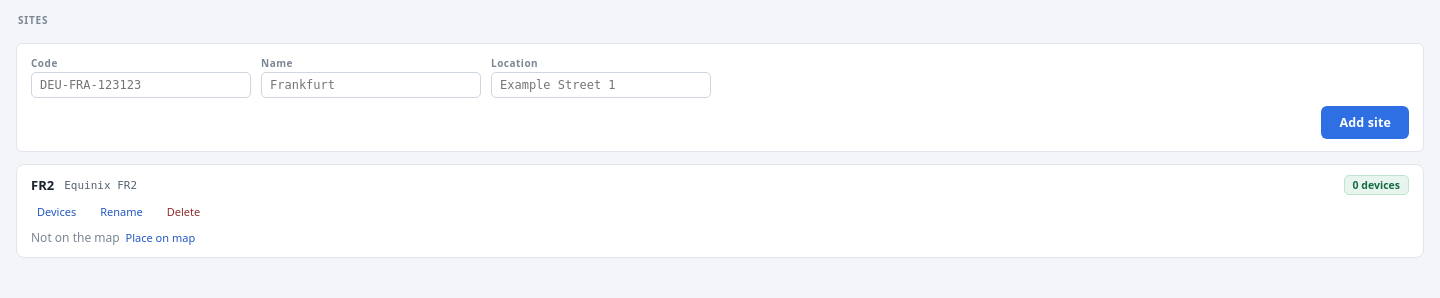
Test: lets an operator place a site, offering the metro its code names
The image size is (1440, 298).
Later steps or results of the test are not shown.
Check: the text "Not on the map" is shown, box [31,229,120,246]
Step 1. Click the button "Place on map" → (160, 238), box [120,229,201,246]
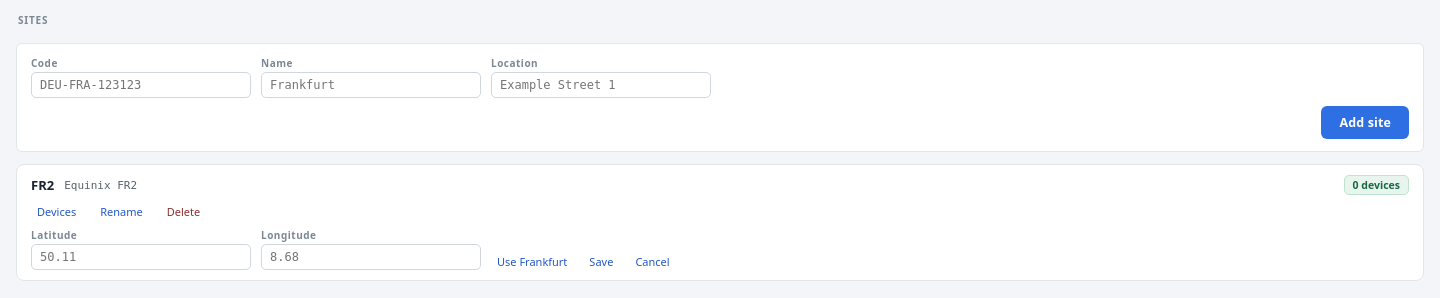
# the pair is required: one box filled saves nothing
Step 2. Type "50" into the field labelled "Latitude" → (141, 257), box [31,244,251,270]
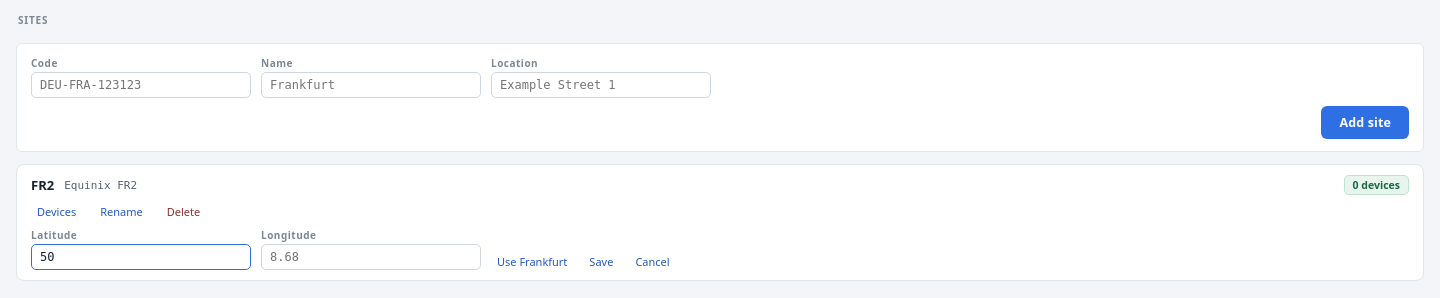
Check: the button "Save" is disabled, box [583,253,619,270]
Step 3. Click the button "Use Frankfurt" → (532, 262), box [491,253,573,270]
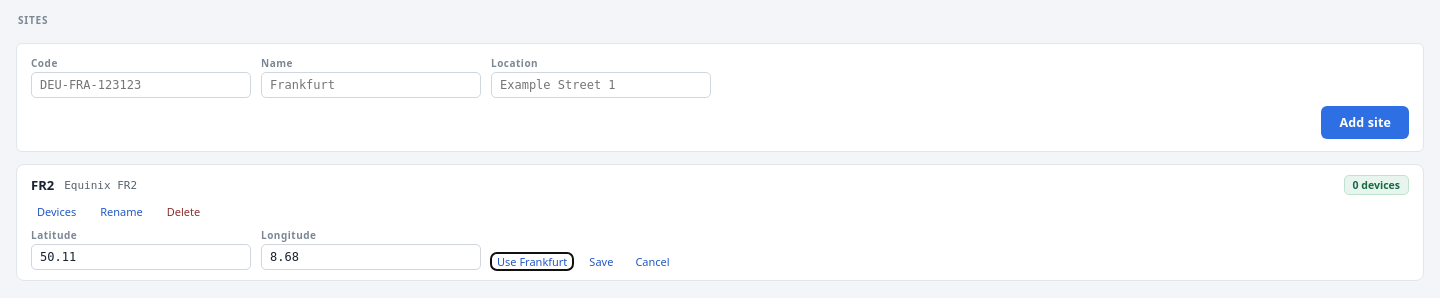
Check: the field labelled "Latitude" holds "50.11", box [31,244,251,270]
Check: the field labelled "Longitude" holds "8.68", box [261,244,481,270]
